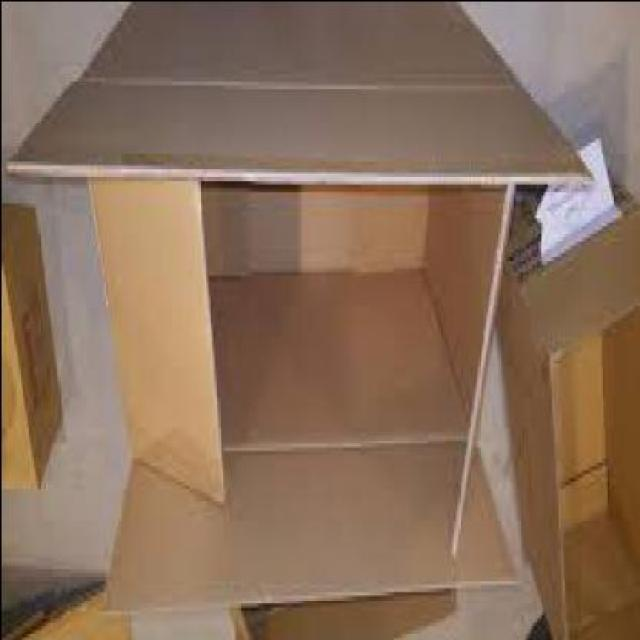CARDBOARD: (4, 3, 591, 594), (488, 187, 638, 639), (2, 212, 60, 496), (223, 591, 455, 638), (2, 590, 129, 638)
